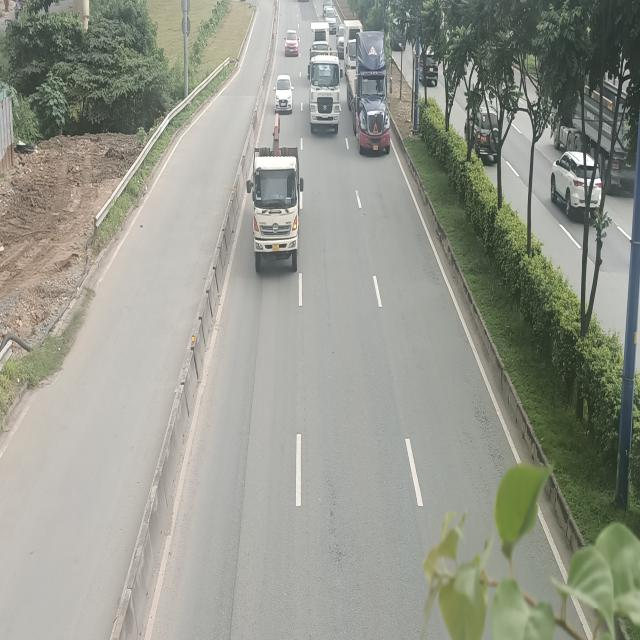car: (275, 75, 294, 113)
container: (345, 28, 393, 155)
truck: (248, 115, 305, 271), (308, 48, 342, 130)
